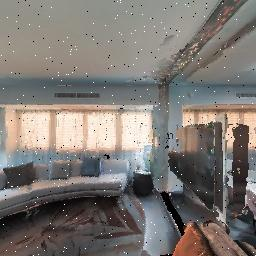sofa: (0, 149, 140, 221)
